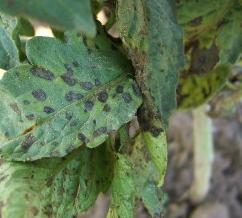Tomato leaf bacterial spot: (0, 49, 156, 185), (0, 111, 132, 218), (95, 0, 185, 134)
